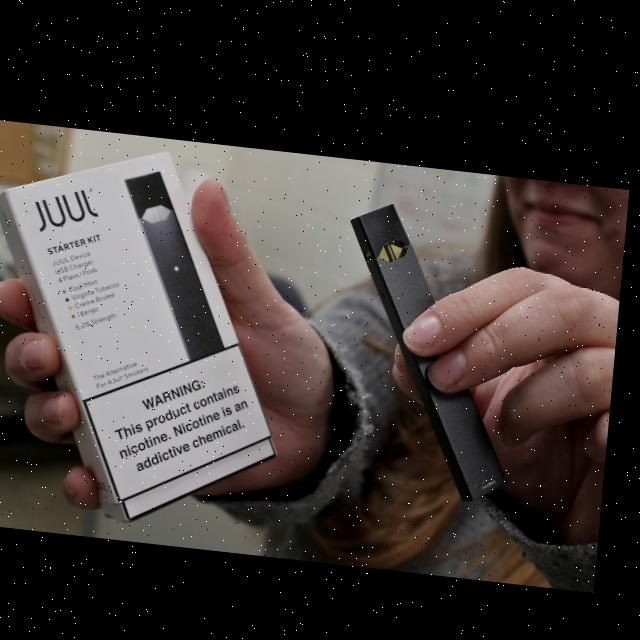vape: (335, 190, 534, 494), (115, 163, 243, 359)
